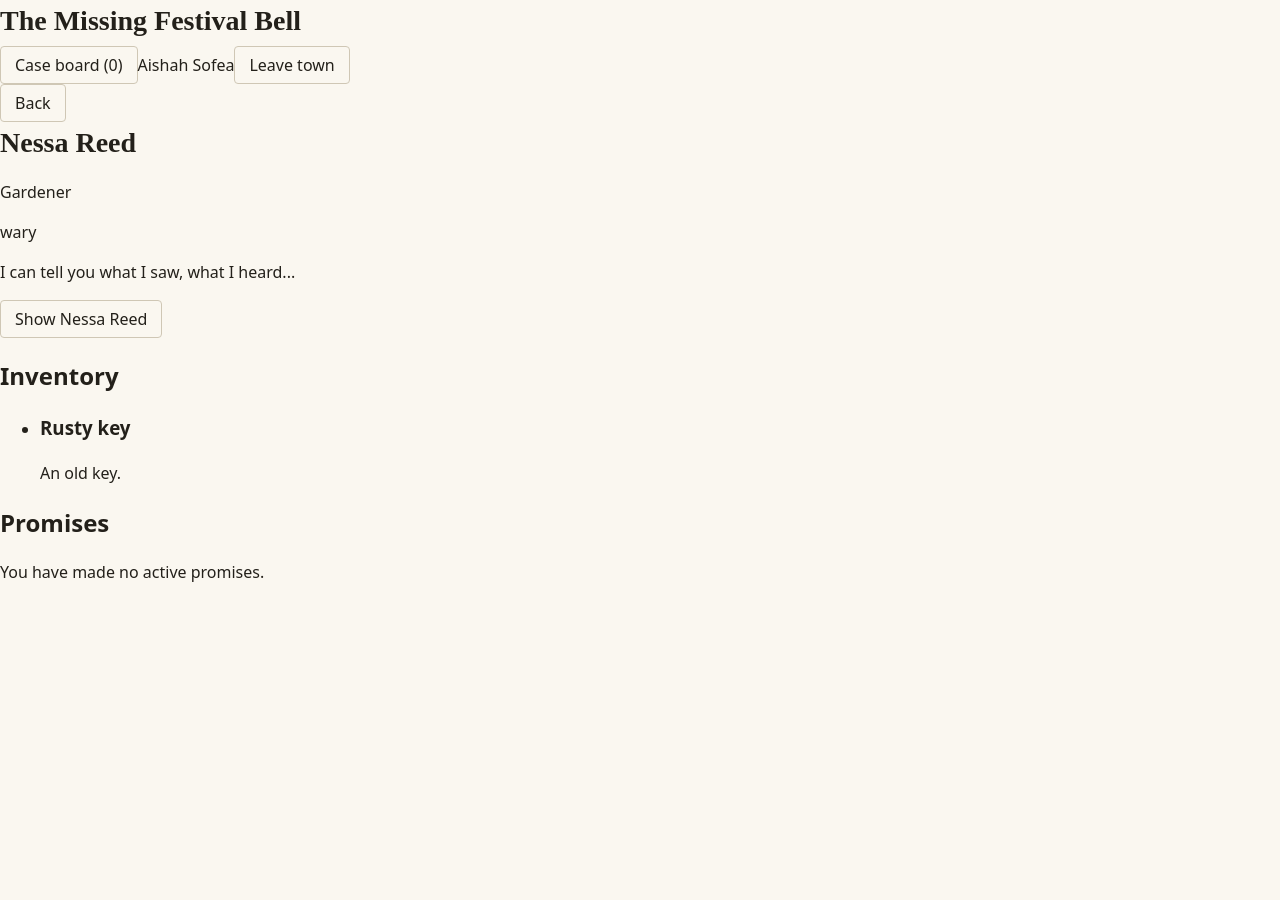
Scenario: Encounter — Show picker (P4-20 acceptance 1) › lists discovered clues and held items, and confirms viewing without a promise warning
Click the button "Show Nessa Reed".
click(81, 319)  # box x1=0 y1=300 x2=162 y2=338
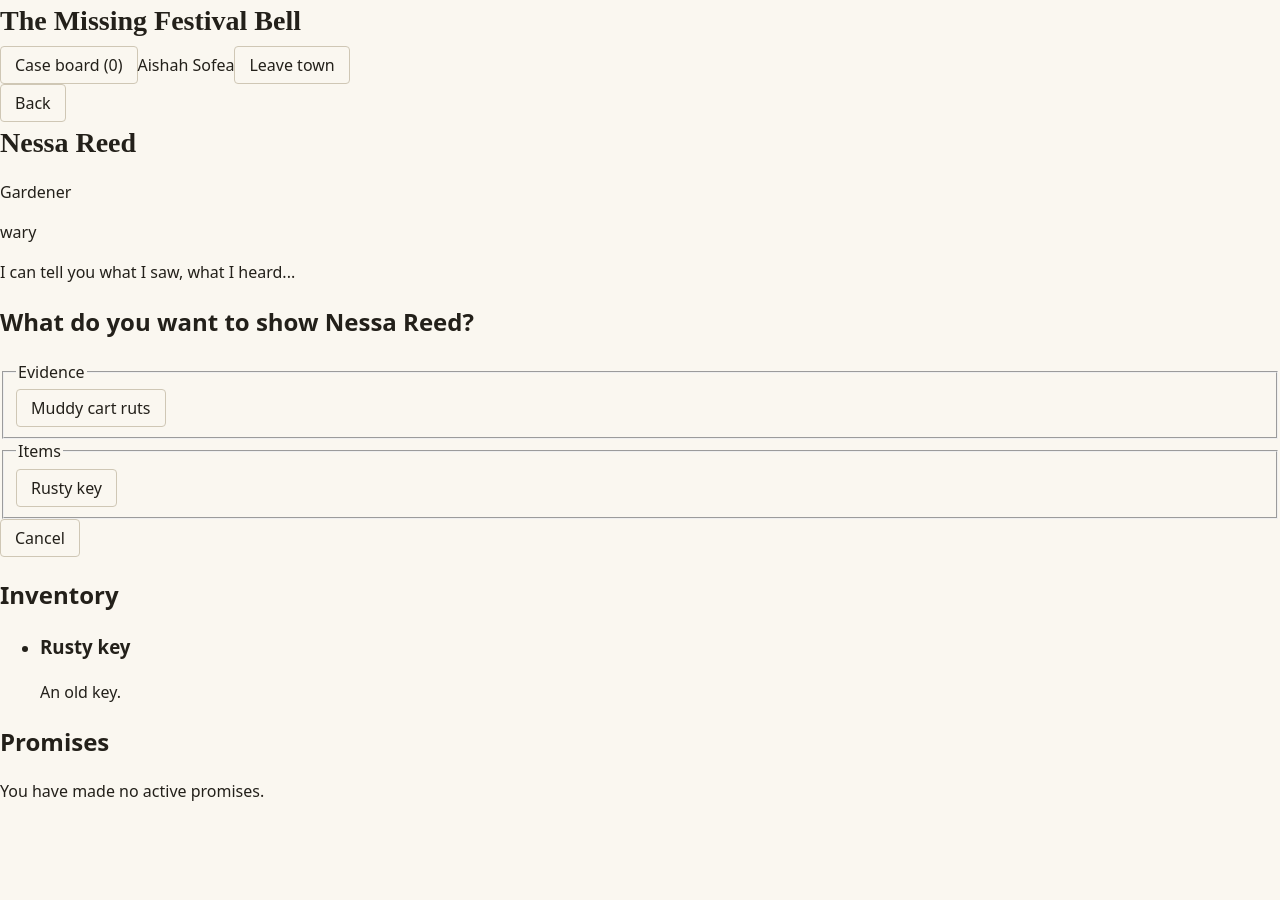
Check: the button "Muddy cart ruts" is shown
Check: the button "Rusty key" is shown, box x1=16 y1=469 x2=117 y2=507
Click the button "Muddy cart ruts".
click(91, 408)  # box x1=16 y1=389 x2=166 y2=427
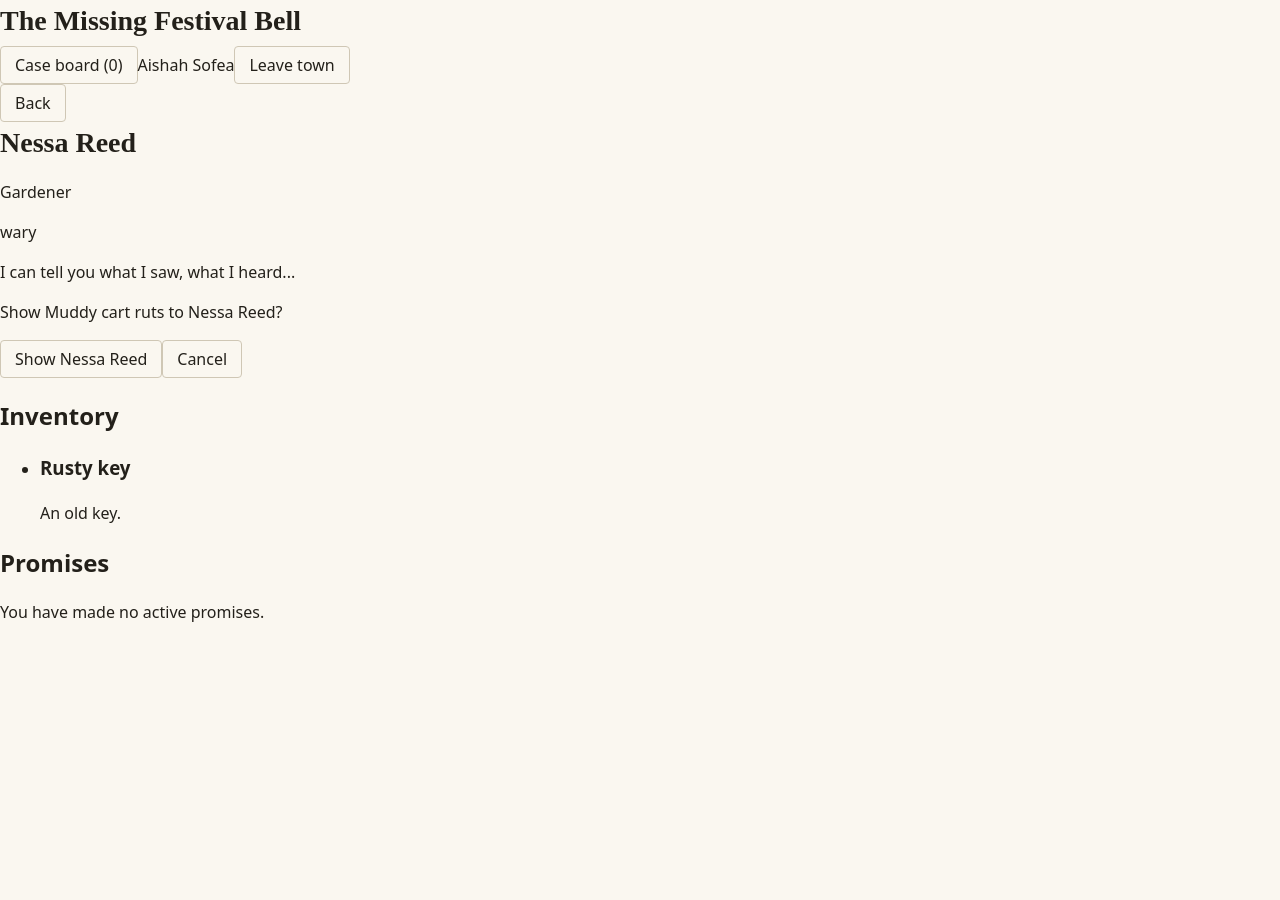
Check: the dialog "Show this?" does not show "promise"
Click the button "Show Nessa Reed".
click(81, 359)  # box x1=0 y1=340 x2=162 y2=378
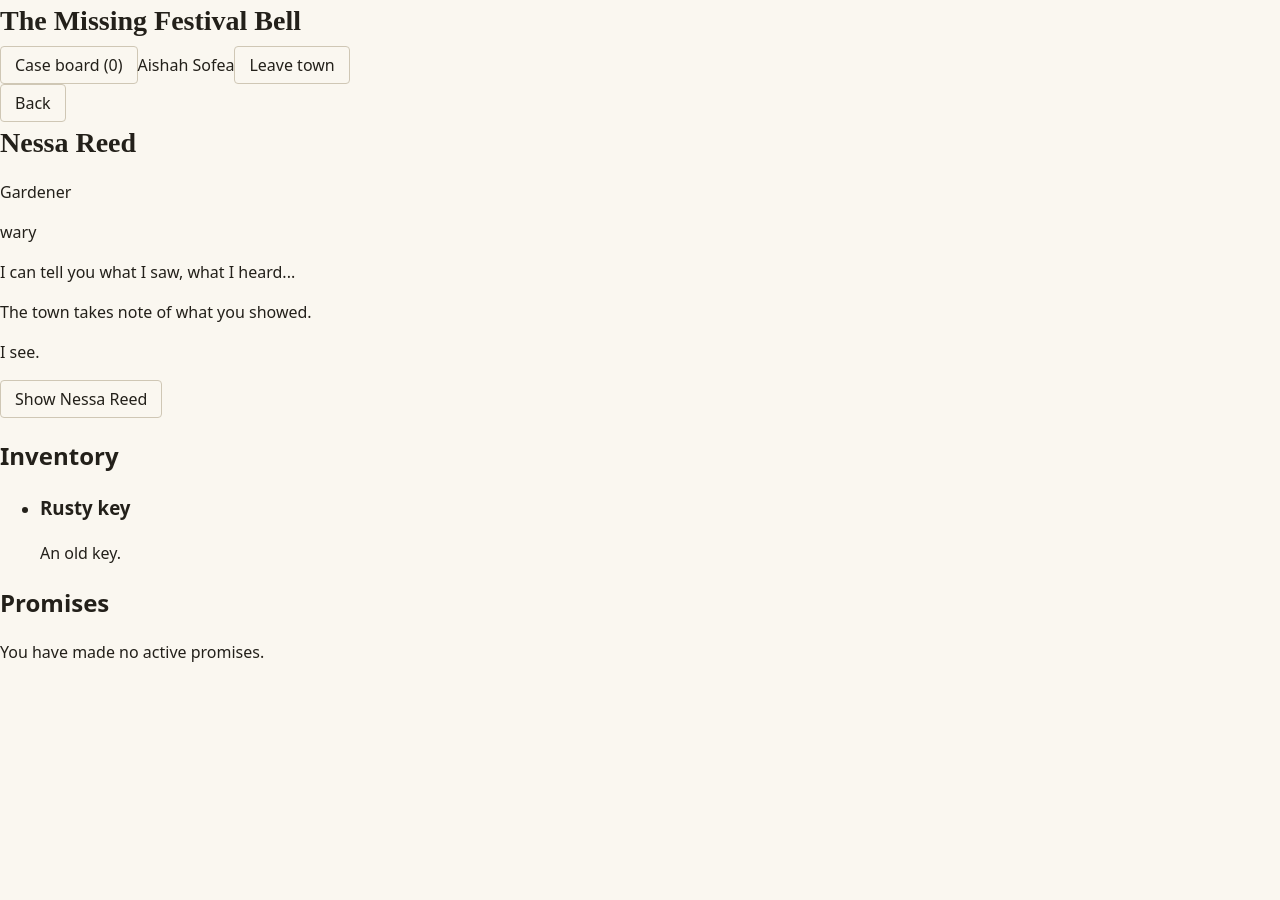
Check: the text "I see." is shown, box x1=0 y1=341 x2=40 y2=363
